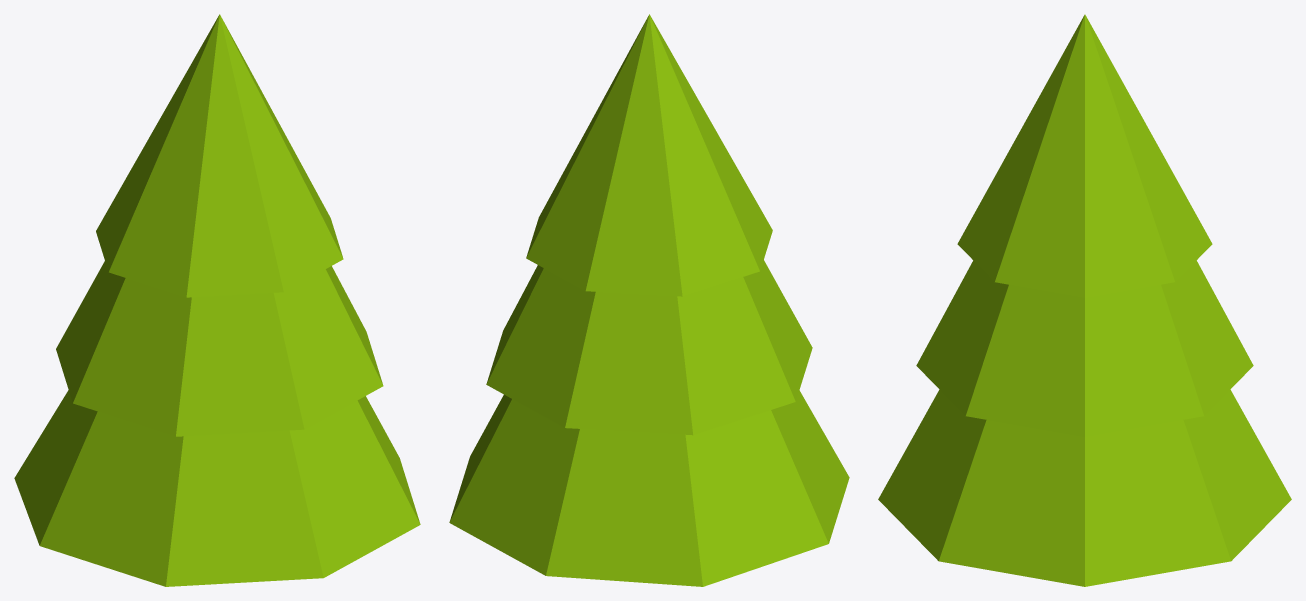
The model's file is pine_2.fbx.
3 renders of one model, left to right at view 1: azimuth 30°, elevation 25°; view 2: azimuth 150°, elevation 25°; view 3: azimuth 270°, elevation 25°, orthographic.
Visible parts, largest first — view 1: pine_2; view 2: pine_2; view 3: pine_2.
Part boxes in pixels (bbox=[...]): pine_2: bbox=[14, 14, 420, 586]; pine_2: bbox=[449, 14, 849, 586]; pine_2: bbox=[878, 14, 1291, 586].
Size of the model in its own units: 184 by 271 by 184.
